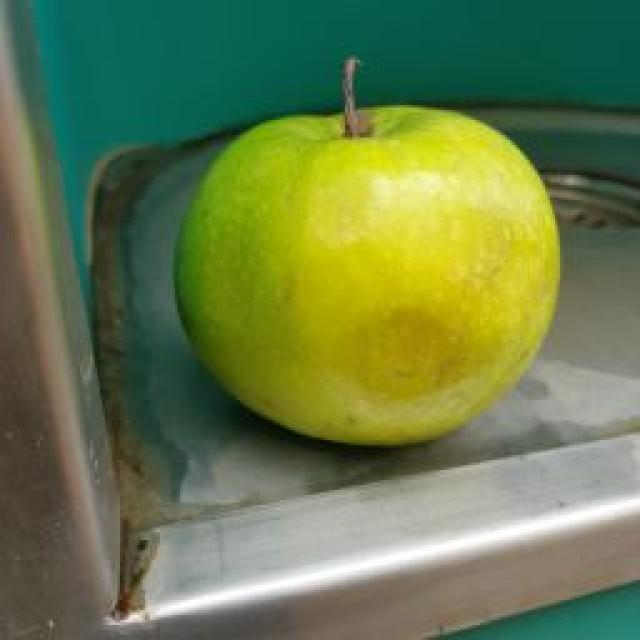Good_Apple: (176, 109, 560, 444)
